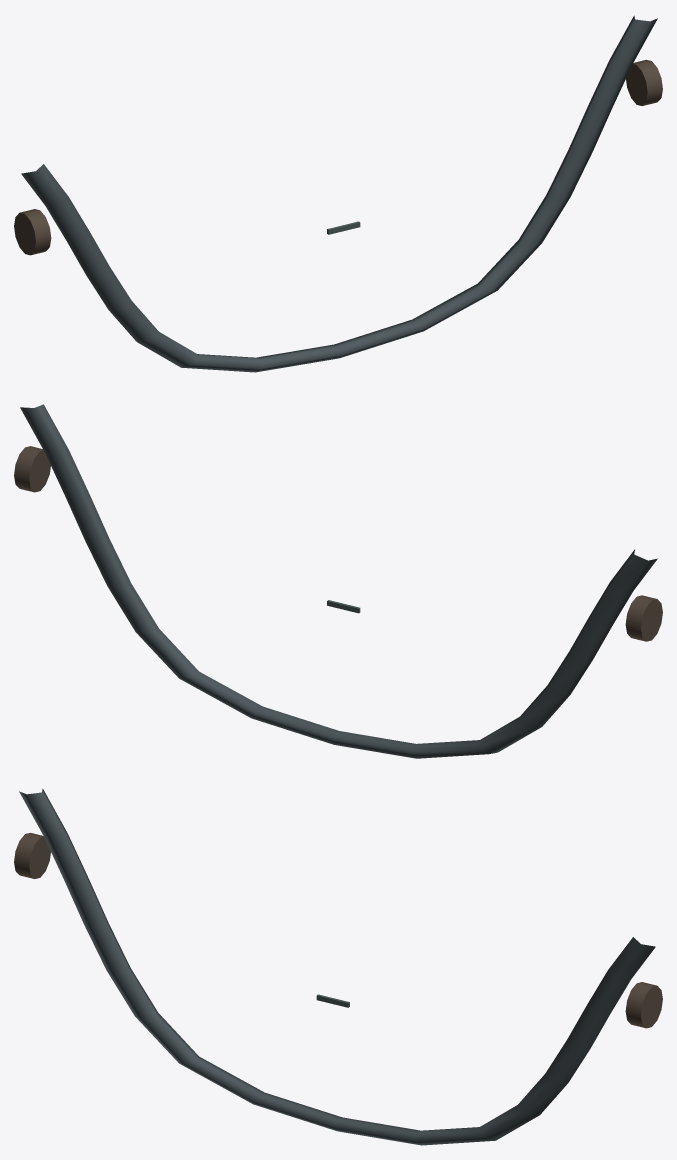
File: curved-pipe-3.glb
3 views of the same model, one above another, from view 1: azimuth 30°, elevation 25°; view 2: azimuth 150°, elevation 25°; view 3: azimuth 330°, elevation 25° (orthographic).
Visible parts, largest first — view 1: curved-pipe/2/KR-230-3; view 2: curved-pipe/2/KR-230-3; view 3: curved-pipe/2/KR-230-3.
Part boxes in pixels (x1=…): curved-pipe/2/KR-230-3: x1=14, y1=15, x2=662, y2=372; curved-pipe/2/KR-230-3: x1=14, y1=404, x2=662, y2=758; curved-pipe/2/KR-230-3: x1=14, y1=788, x2=662, y2=1145.
Size of the model in its own units: 5 by 2 by 0.3.
